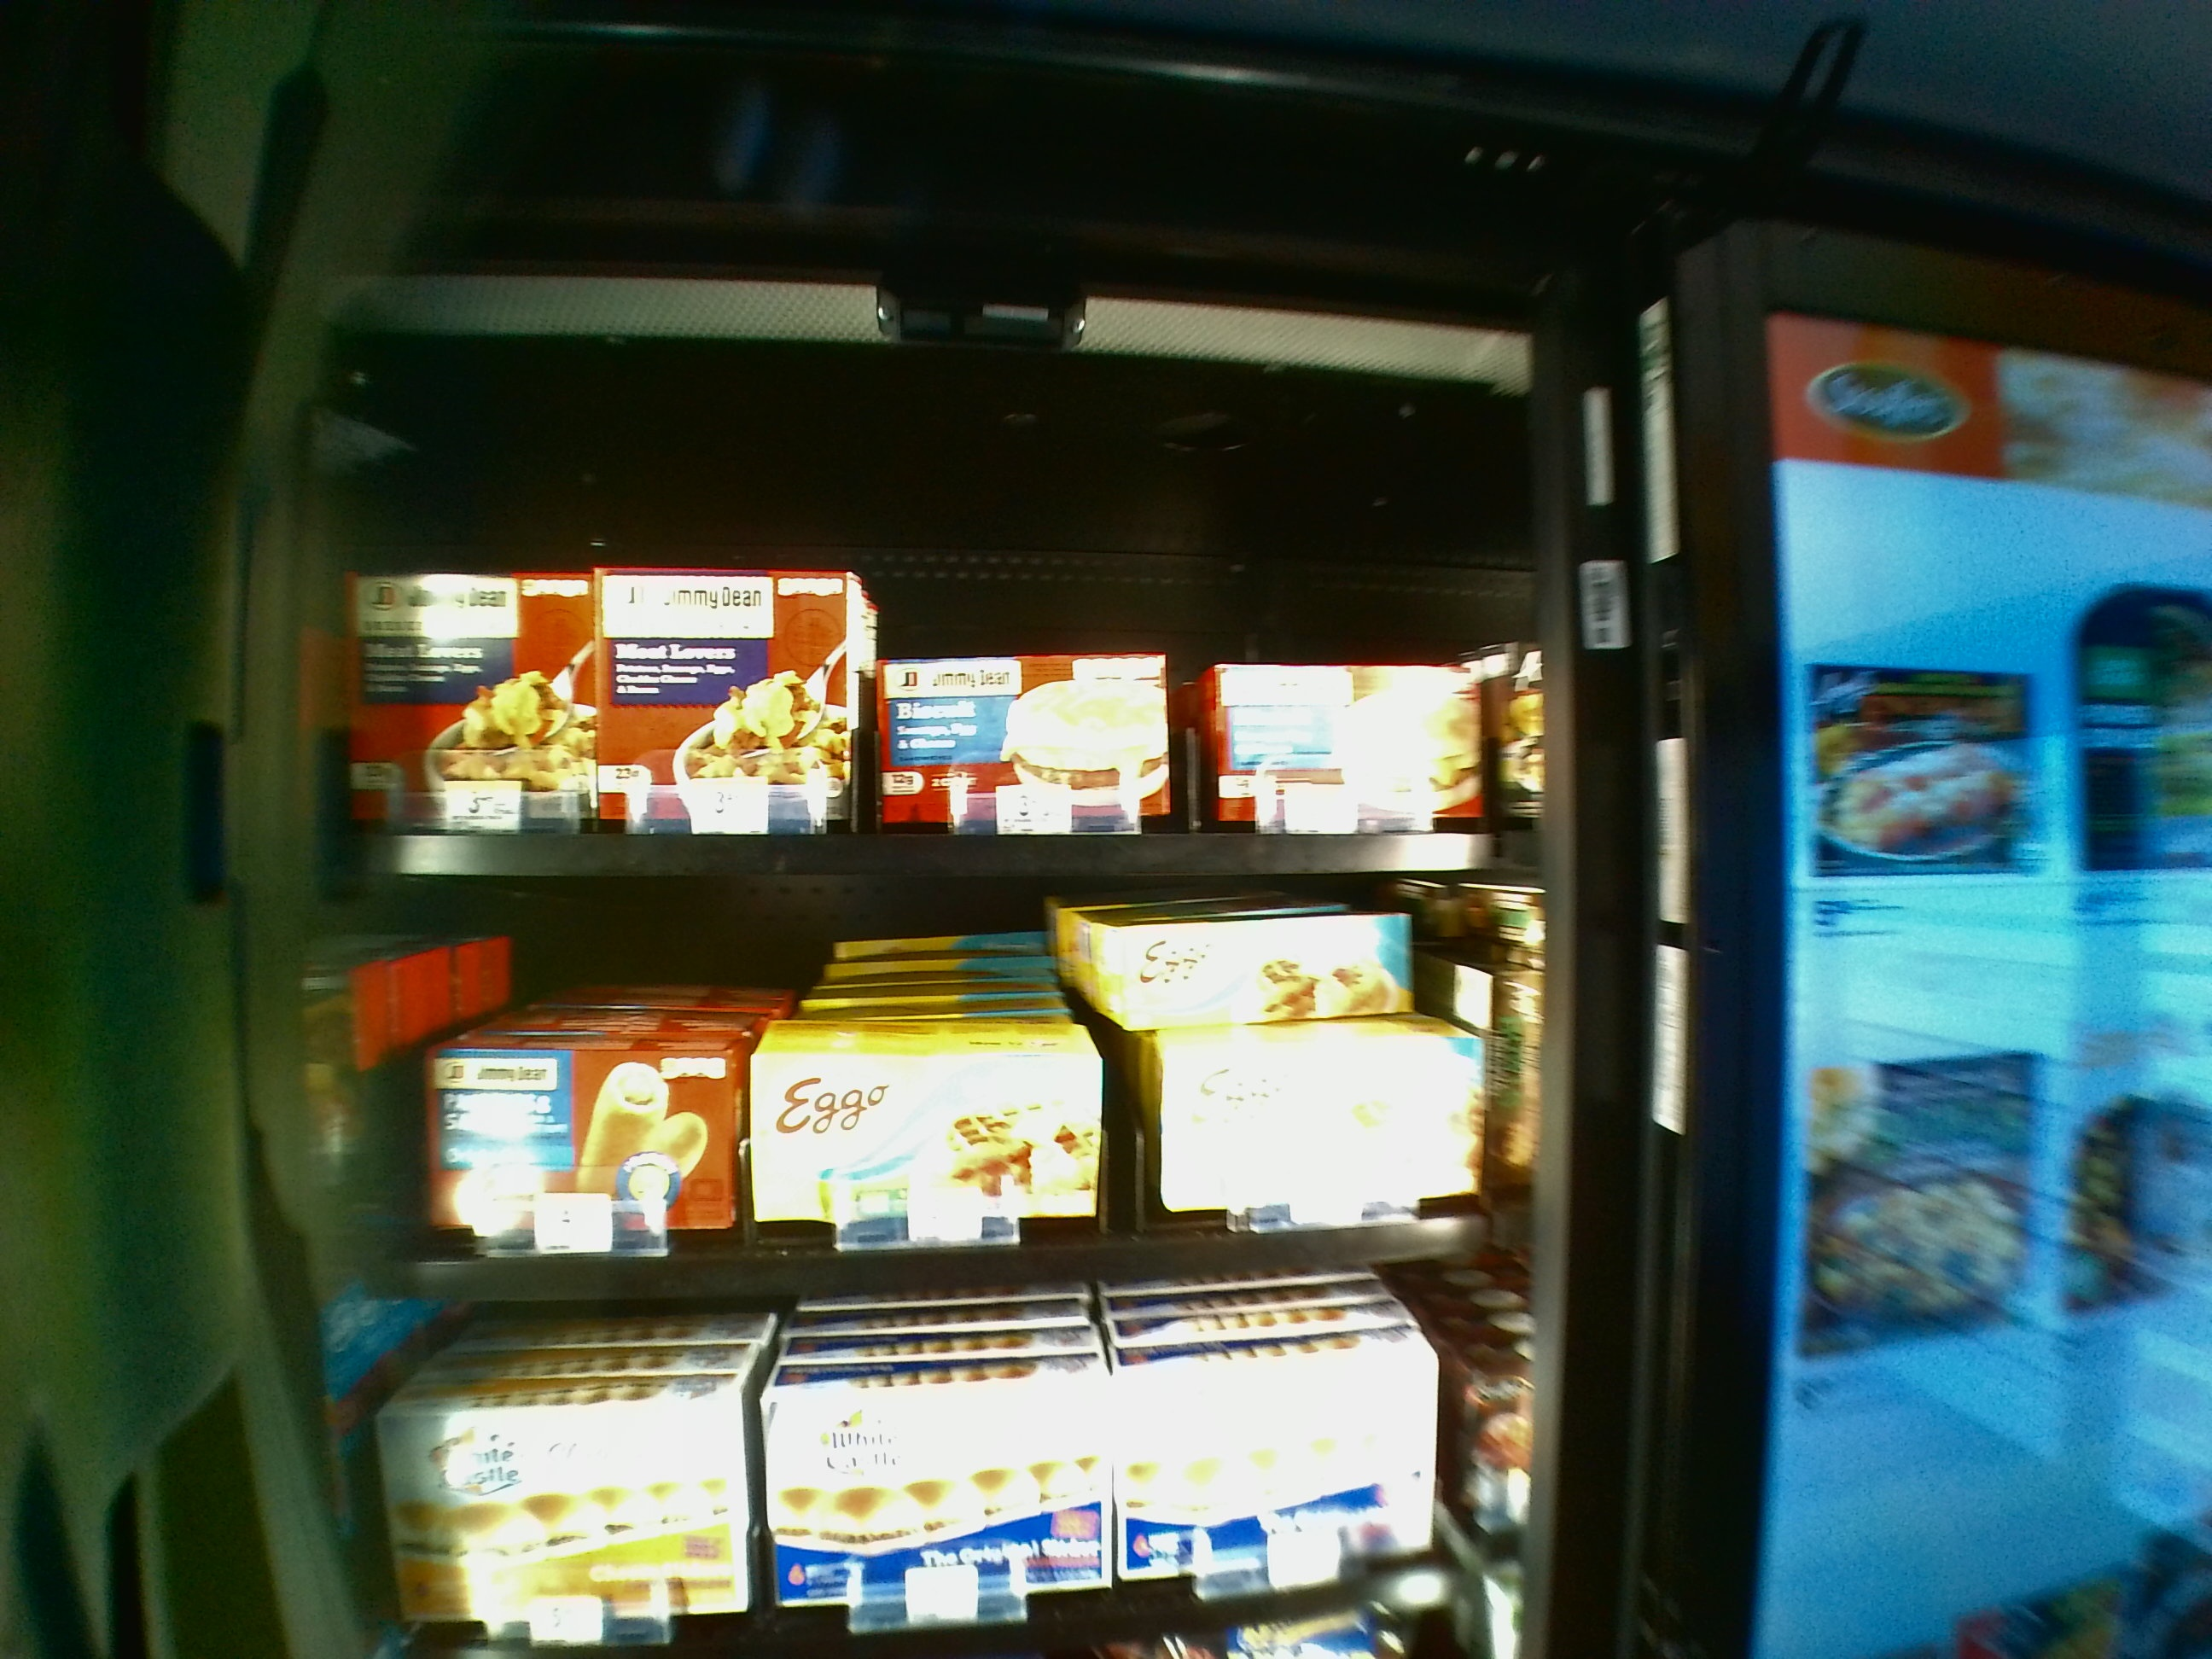shelf: (334, 385, 1524, 877), (331, 889, 1531, 1316)
